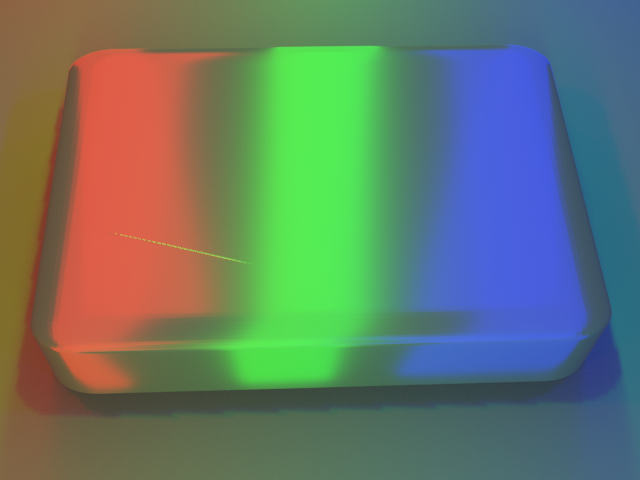scratch: (19, 124, 378, 345)
